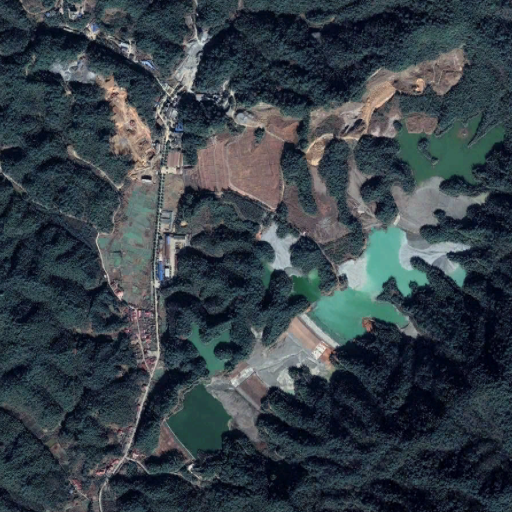tp: (146, 116, 509, 460)
